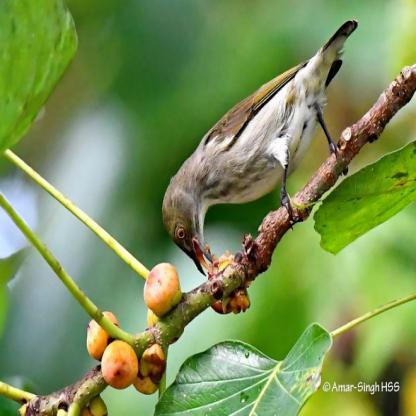Burung: (160, 15, 361, 272)
